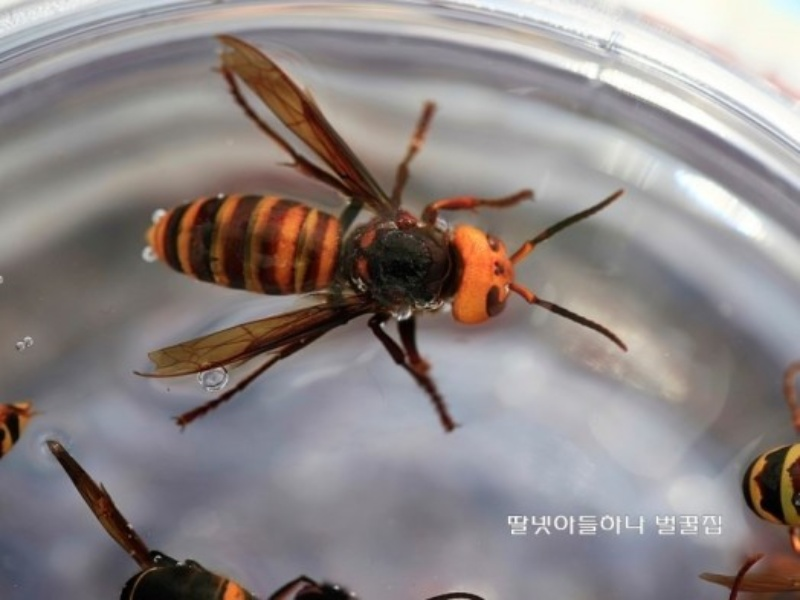asian_giant_hornet: (144, 177, 634, 382), (52, 543, 253, 600), (742, 434, 800, 537), (2, 390, 34, 458)
